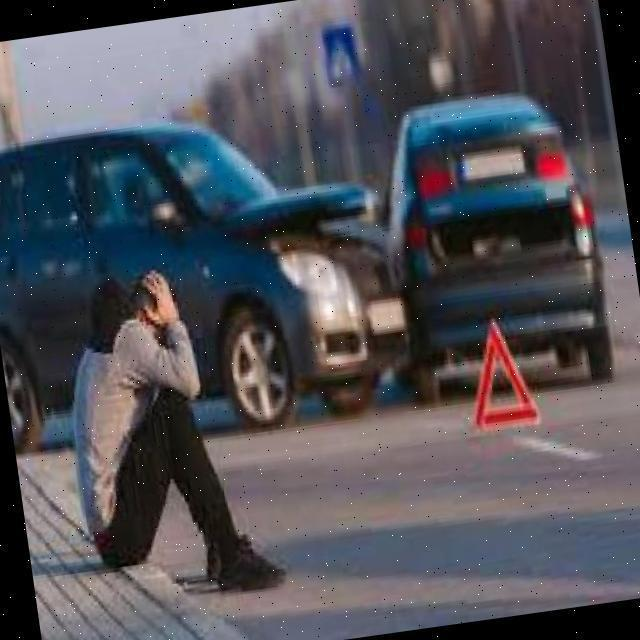accident: (0, 43, 620, 460)
